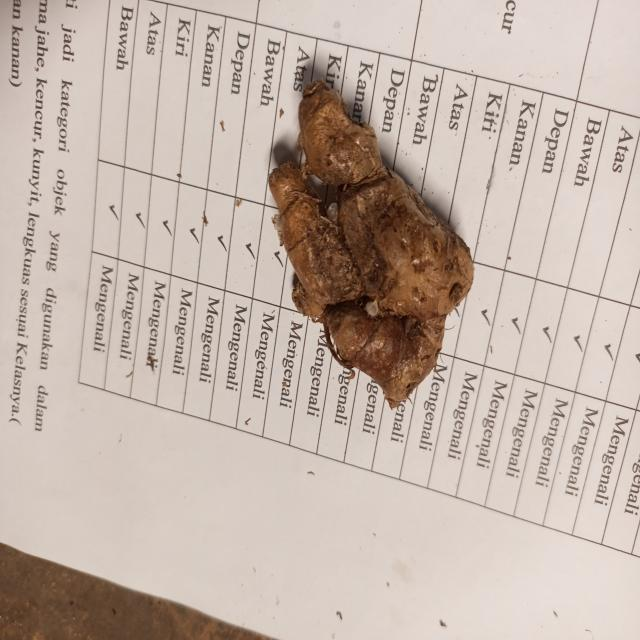ginger: (275, 81, 467, 398)
